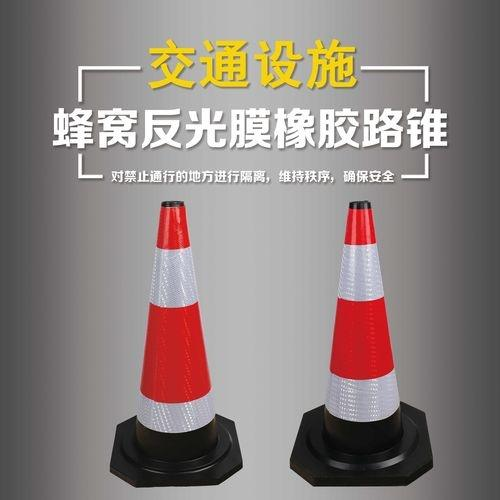cone_barrel: (122, 203, 230, 476), (307, 204, 416, 470)
